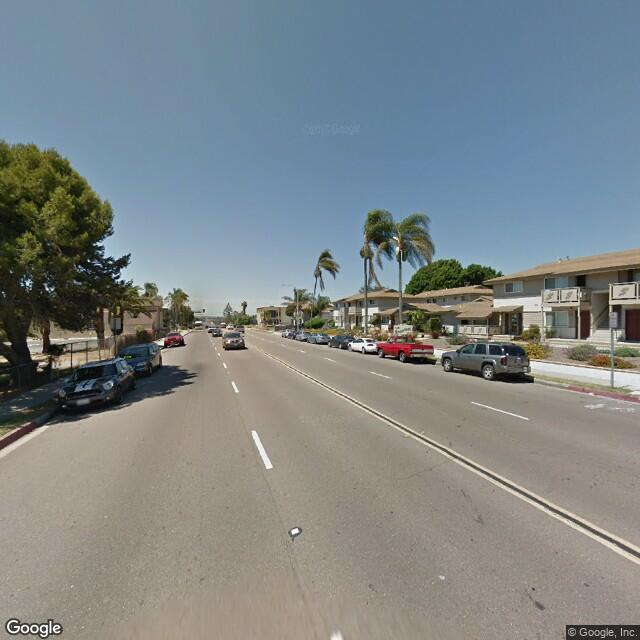litter: (586, 388, 596, 398)
